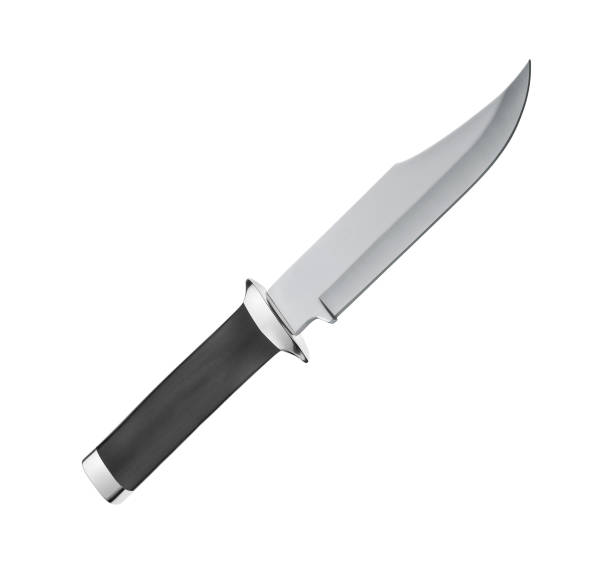knife: (78, 60, 533, 504)
